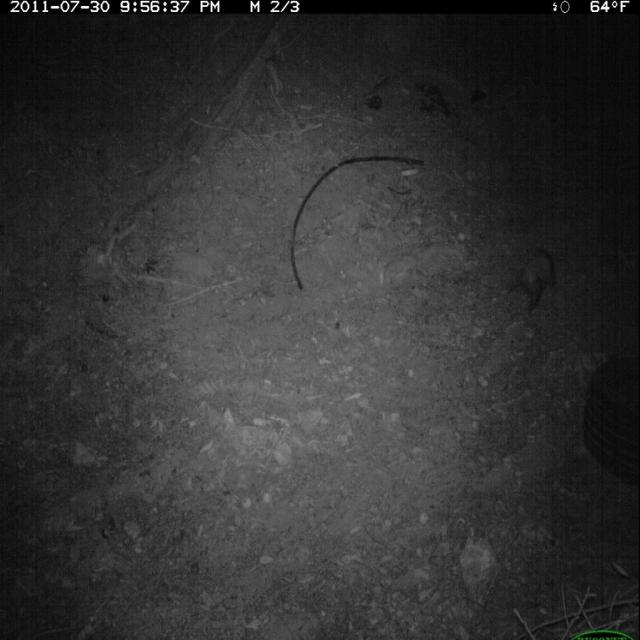opossum: (499, 235, 566, 332)
